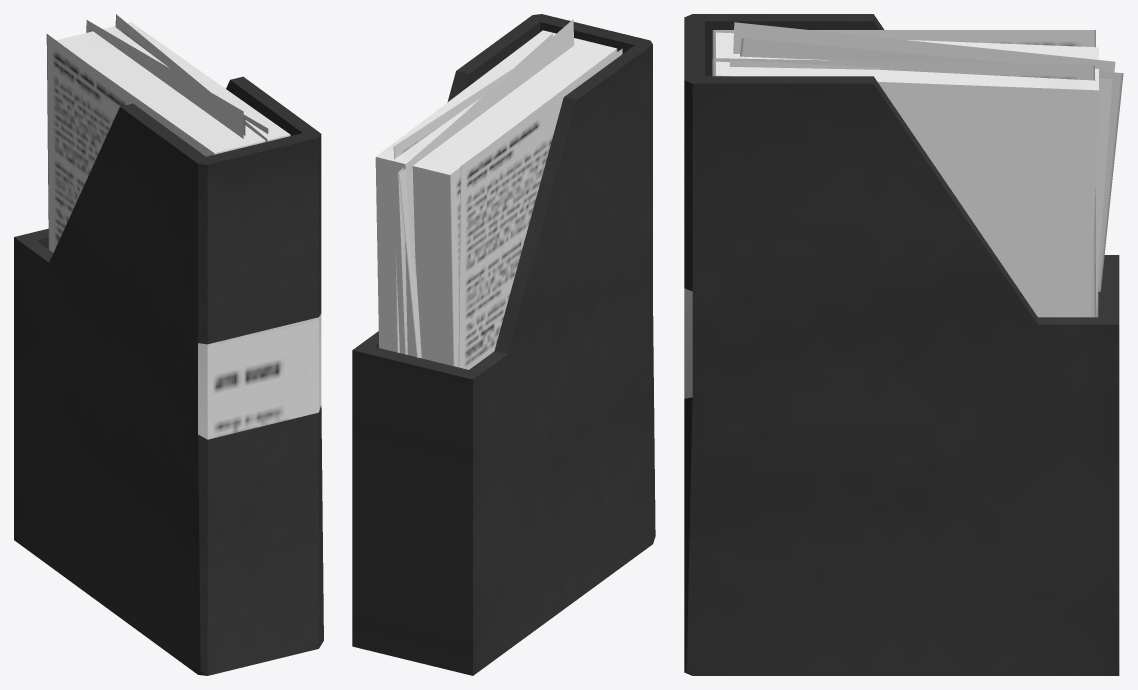
Rendered from document_folder_2.fbx.
3 views of the same model, side by side, from view 1: azimuth 30°, elevation 25°; view 2: azimuth 150°, elevation 25°; view 3: azimuth 270°, elevation 25° (orthographic). The views are drawn at different scales.
Visible parts, largest first — view 1: document_folder_2; view 2: document_folder_2; view 3: document_folder_2.
Part boxes in pixels (x1=…): document_folder_2: x1=14, y1=14, x2=323, y2=675; document_folder_2: x1=352, y1=14, x2=655, y2=675; document_folder_2: x1=684, y1=14, x2=1123, y2=675.
Bounding box in the file's own units: 8.3 × 34.38 × 22.08.
